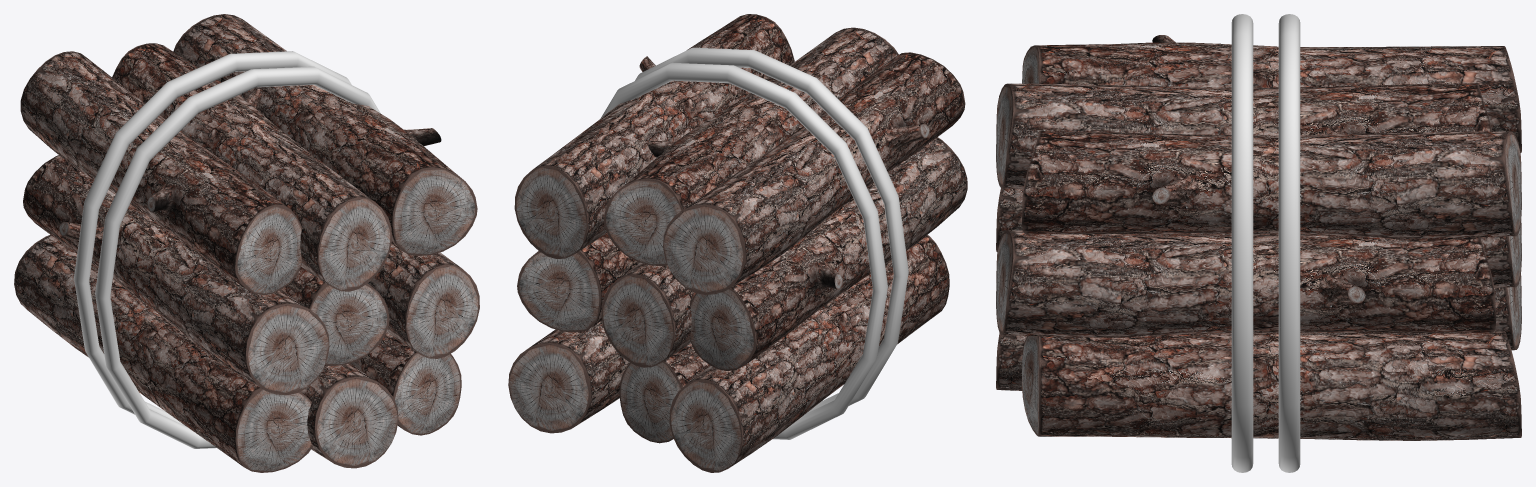
The model's file is Logs.fbx.
3 views of the same model, side by side, from view 1: azimuth 30°, elevation 25°; view 2: azimuth 150°, elevation 25°; view 3: azimuth 270°, elevation 25° (orthographic). The views are drawn at different scales.
Visible parts, largest first — view 1: low_poly_log.008, low_poly_log.007, low_poly_log.006, low_poly_log.002, low_poly_log.005, Cube, Cube.001, low_poly_log.001, low_poly_log.003, low_poly_log, low_poly_log.004; view 2: low_poly_log.008, low_poly_log.006, low_poly_log.007, low_poly_log.002, low_poly_log.005, Cube.001, low_poly_log, Cube, low_poly_log.004, low_poly_log.001, low_poly_log.003; view 3: low_poly_log, low_poly_log.002, low_poly_log.001, low_poly_log.005, low_poly_log.008, Cube, Cube.001, low_poly_log.004, low_poly_log.003, low_poly_log.006, low_poly_log.007.
Part boxes in pixels (x1,y1,x2,y2): low_poly_log.008: [20, 51, 302, 295]; low_poly_log.007: [23, 155, 329, 395]; low_poly_log.006: [14, 235, 312, 472]; low_poly_log.002: [173, 14, 477, 255]; low_poly_log.005: [112, 43, 391, 291]; Cube: [95, 66, 380, 448]; Cube.001: [74, 51, 351, 426]; low_poly_log.001: [368, 244, 479, 358]; low_poly_log.003: [300, 363, 398, 468]; low_poly_log: [351, 332, 461, 435]; low_poly_log.004: [281, 267, 389, 366]; low_poly_log.008: [663, 52, 965, 294]; low_poly_log.006: [669, 235, 949, 472]; low_poly_log.007: [689, 137, 967, 370]; low_poly_log.002: [514, 14, 794, 258]; low_poly_log.005: [603, 27, 898, 266]; Cube.001: [601, 62, 887, 439]; low_poly_log: [508, 320, 629, 433]; Cube: [635, 47, 908, 413]; low_poly_log.004: [601, 262, 695, 367]; low_poly_log.001: [517, 233, 639, 332]; low_poly_log.003: [619, 343, 710, 443]; low_poly_log: [1022, 330, 1521, 440]; low_poly_log.002: [1022, 131, 1521, 238]; low_poly_log.001: [996, 230, 1495, 337]; low_poly_log.005: [996, 83, 1492, 188]; low_poly_log.008: [1022, 35, 1521, 152]; Cube: [1231, 14, 1253, 472]; Cube.001: [1278, 14, 1300, 472]; low_poly_log.004: [1480, 221, 1521, 287]; low_poly_log.003: [996, 329, 1495, 390]; low_poly_log.006: [1494, 274, 1521, 350]; low_poly_log.007: [996, 188, 1023, 251].
Size of the model in its own units: 286 by 326 by 371.
